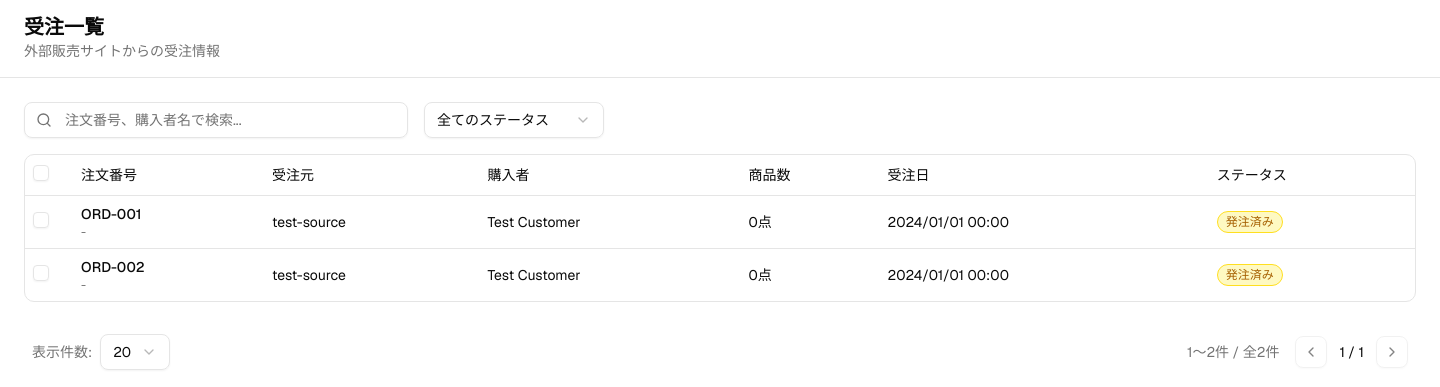
AC-001: Image download button shown when orders selected › shows "イメージ画像ダウンロード" button when one or more orders are selected
This screenshot has width=1440, height=387.
Click the checkbox named "ORD-001を選択" at {"x": 41, "y": 220}, box [33,212,49,228]
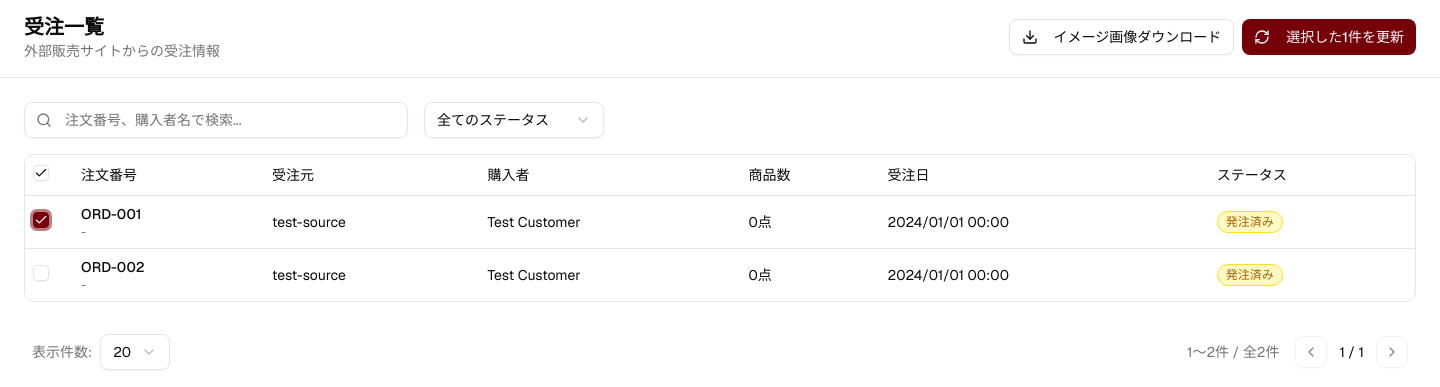
Expected: the button "イメージ画像ダウンロード" is shown, [1009,19,1234,55]
